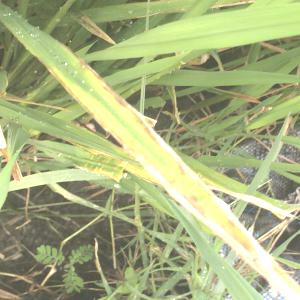2 BacterialBlight: (120, 107, 210, 220)
